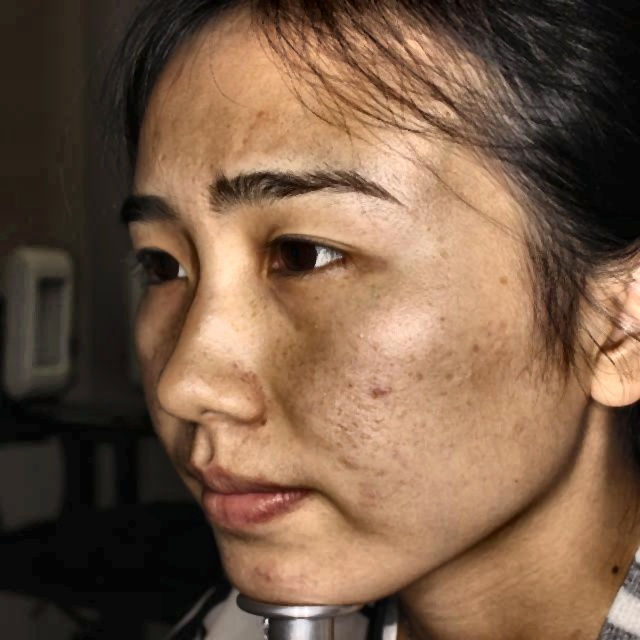comedone: (254, 564, 279, 590), (368, 377, 387, 410)
